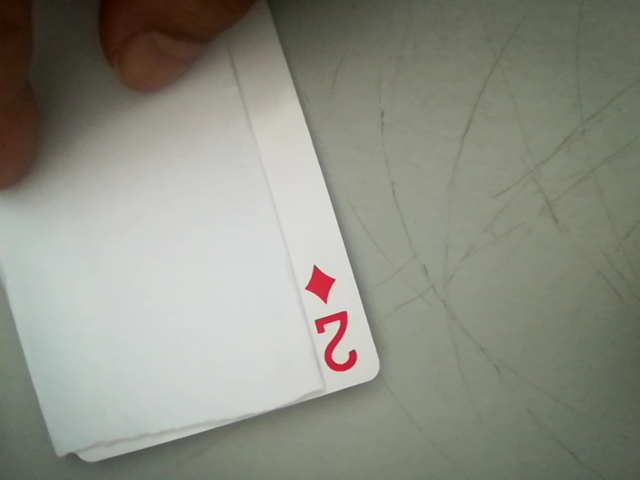fk 2: (294, 261, 370, 384)
